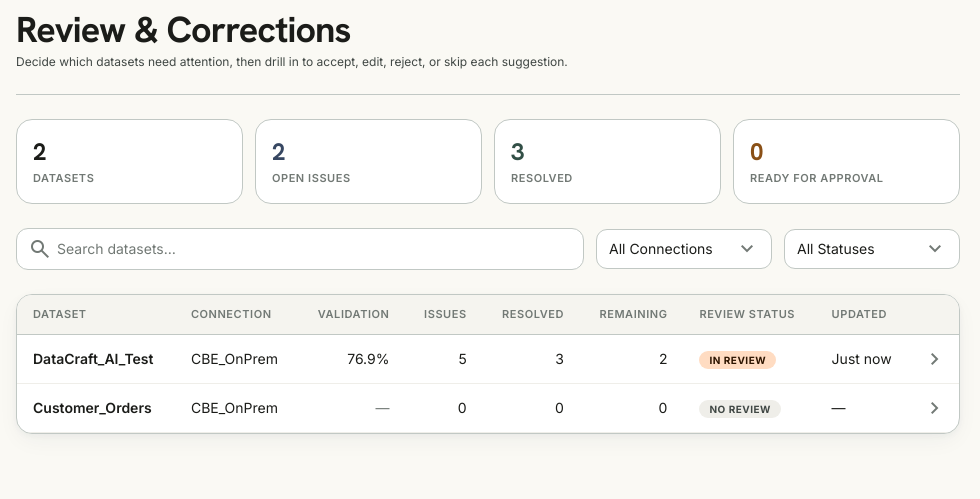
Test: ReviewCorrectionsMasterView › filters by review status
Click the button with aria-label "Filter by status": (872, 248) [784, 228, 960, 268]
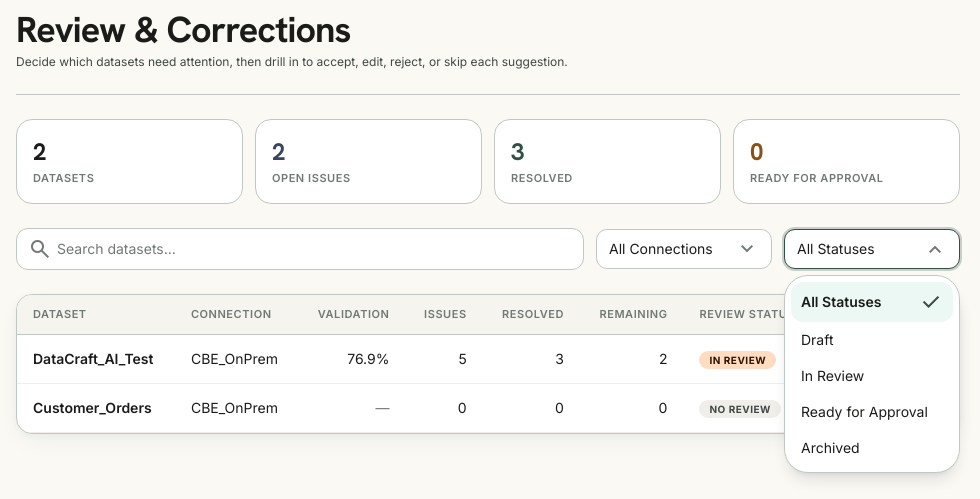
Click the option "In Review": (833, 375) [801, 366, 864, 384]
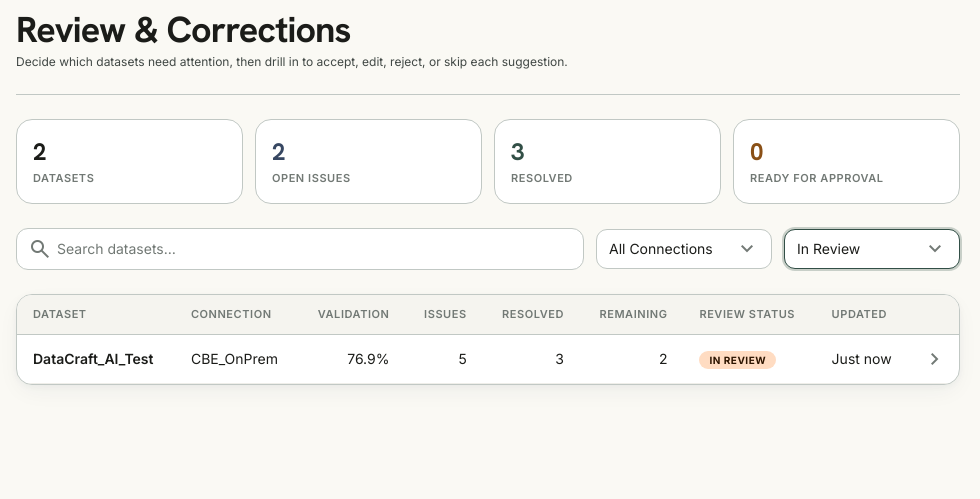
Expected: the text "DataCraft_AI_Test" is shown, [33, 350, 154, 367]
Now the button "Customer_Orders" is gone
